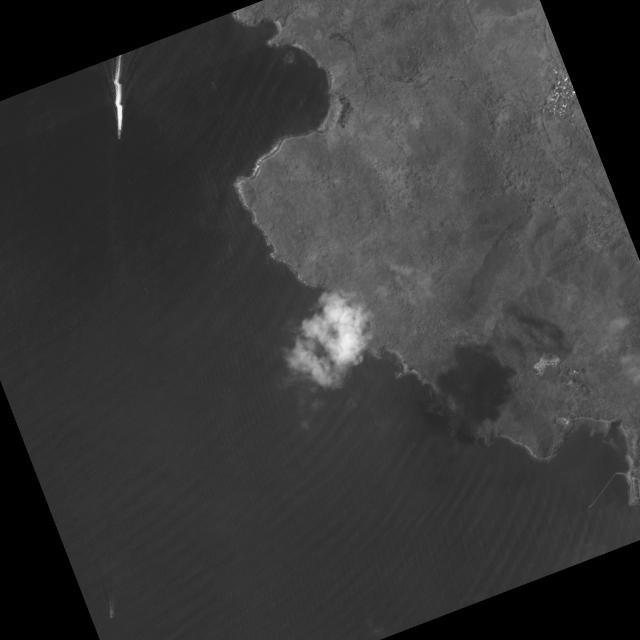ship: (118, 129, 121, 138), (110, 612, 113, 617)
